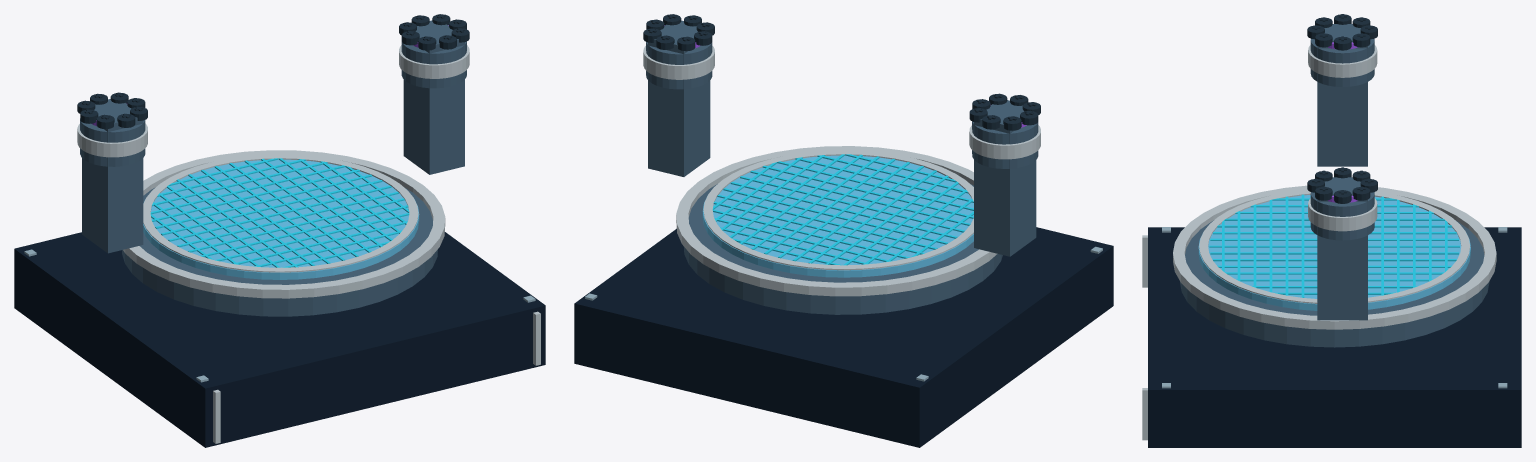
Rendered from 13_L74_WaferPrealignmentStation.fbx.
The picture shows the model from 3 angles, left to right: view 1: azimuth 30°, elevation 25°; view 2: azimuth 150°, elevation 25°; view 3: azimuth 270°, elevation 25°; orthographic projection. The views are drawn at different scales.
Parts seen in each view (by area): view 1: WaferPrealignmentStation, WaferPrealignmentStation_Part_0009, WaferPrealignmentStation_Part_0007, WaferPrealignmentStation_Part_0008, WaferPrealignmentStation_Part_0010, WaferPrealignmentStation_Part_0024, WaferPrealignmentStation_Part_0026, WaferPrealignmentStation_Part_0030, WaferPrealignmentStation_Part_0022, WaferPrealignmentStation_Part_0028, WaferPrealignmentStation_Part_0032, WaferPrealignmentStation_Part_0020 (+2 smaller); view 2: WaferPrealignmentStation, WaferPrealignmentStation_Part_0009, WaferPrealignmentStation_Part_0007, WaferPrealignmentStation_Part_0008, WaferPrealignmentStation_Part_0010, WaferPrealignmentStation_Part_0026, WaferPrealignmentStation_Part_0028, WaferPrealignmentStation_Part_0024, WaferPrealignmentStation_Part_0022, WaferPrealignmentStation_Part_0030, WaferPrealignmentStation_Part_0032, WaferPrealignmentStation_Part_0020 (+2 smaller); view 3: WaferPrealignmentStation, WaferPrealignmentStation_Part_0009, WaferPrealignmentStation_Part_0007, WaferPrealignmentStation_Part_0008, WaferPrealignmentStation_Part_0010, WaferPrealignmentStation_Part_0025, WaferPrealignmentStation_Part_0027, WaferPrealignmentStation_Part_0023, WaferPrealignmentStation_Part_0029, WaferPrealignmentStation_Part_0021, WaferPrealignmentStation_Part_0031, WaferPrealignmentStation_Part_0019 (+3 smaller).
Boxes of the visible parts, box(x1,y1,x2,y2) form: WaferPrealignmentStation: box(14, 14, 545, 447); WaferPrealignmentStation_Part_0009: box(143, 159, 419, 279); WaferPrealignmentStation_Part_0007: box(122, 187, 437, 316); WaferPrealignmentStation_Part_0008: box(123, 150, 445, 298); WaferPrealignmentStation_Part_0010: box(143, 154, 418, 272); WaferPrealignmentStation_Part_0024: box(161, 180, 382, 235); WaferPrealignmentStation_Part_0026: box(168, 185, 391, 241); WaferPrealignmentStation_Part_0030: box(188, 198, 404, 252); WaferPrealignmentStation_Part_0022: box(155, 174, 372, 228); WaferPrealignmentStation_Part_0028: box(177, 191, 398, 247); WaferPrealignmentStation_Part_0032: box(200, 205, 408, 257); WaferPrealignmentStation_Part_0020: box(151, 169, 359, 221); WaferPrealignmentStation: box(574, 14, 1113, 447); WaferPrealignmentStation_Part_0009: box(702, 155, 973, 277); WaferPrealignmentStation_Part_0007: box(683, 184, 1002, 314); WaferPrealignmentStation_Part_0008: box(676, 146, 997, 296); WaferPrealignmentStation_Part_0010: box(703, 150, 973, 270); WaferPrealignmentStation_Part_0026: box(730, 182, 957, 238); WaferPrealignmentStation_Part_0028: box(740, 176, 964, 232); WaferPrealignmentStation_Part_0024: box(723, 188, 947, 244); WaferPrealignmentStation_Part_0022: box(717, 195, 937, 249); WaferPrealignmentStation_Part_0030: box(750, 170, 970, 225); WaferPrealignmentStation_Part_0032: box(762, 165, 973, 218); WaferPrealignmentStation_Part_0020: box(713, 201, 924, 254); WaferPrealignmentStation: box(1142, 14, 1521, 447); WaferPrealignmentStation_Part_0009: box(1198, 195, 1470, 310); WaferPrealignmentStation_Part_0007: box(1180, 220, 1489, 347); WaferPrealignmentStation_Part_0008: box(1173, 185, 1496, 329); WaferPrealignmentStation_Part_0010: box(1199, 190, 1470, 303); WaferPrealignmentStation_Part_0025: box(1209, 245, 1459, 247); WaferPrealignmentStation_Part_0027: box(1210, 252, 1458, 254); WaferPrealignmentStation_Part_0023: box(1210, 238, 1458, 240); WaferPrealignmentStation_Part_0029: box(1213, 259, 1456, 261); WaferPrealignmentStation_Part_0021: box(1213, 232, 1456, 234); WaferPrealignmentStation_Part_0031: box(1217, 265, 1451, 267); WaferPrealignmentStation_Part_0019: box(1217, 225, 1451, 227).
Bounding box in the file's own units: 163 × 108 × 142.
